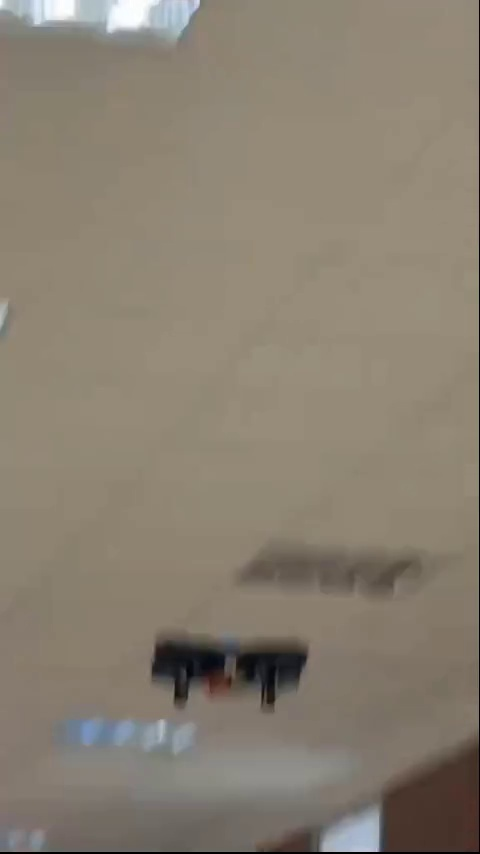drone: (156, 637, 306, 716)
